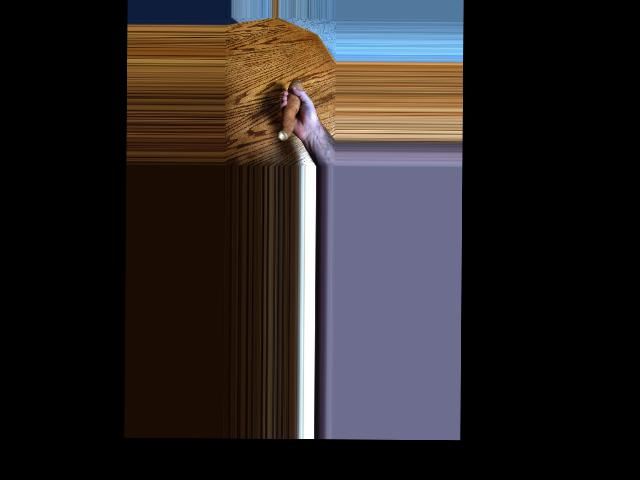sweet_potato: (280, 84, 305, 145)
